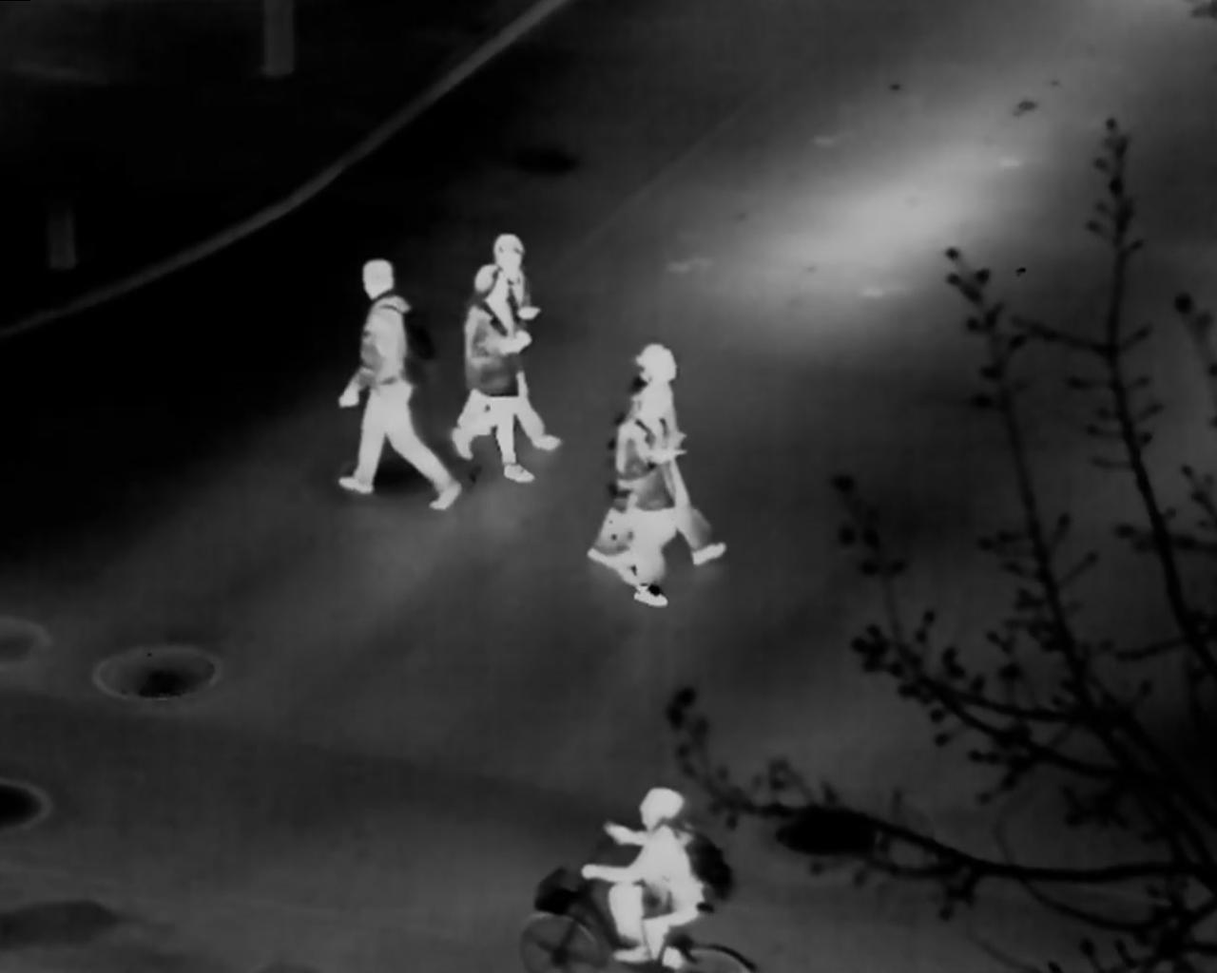person: (338, 258, 463, 510), (580, 784, 733, 973), (635, 336, 726, 566), (450, 260, 533, 485), (491, 232, 561, 453), (612, 387, 676, 608)
